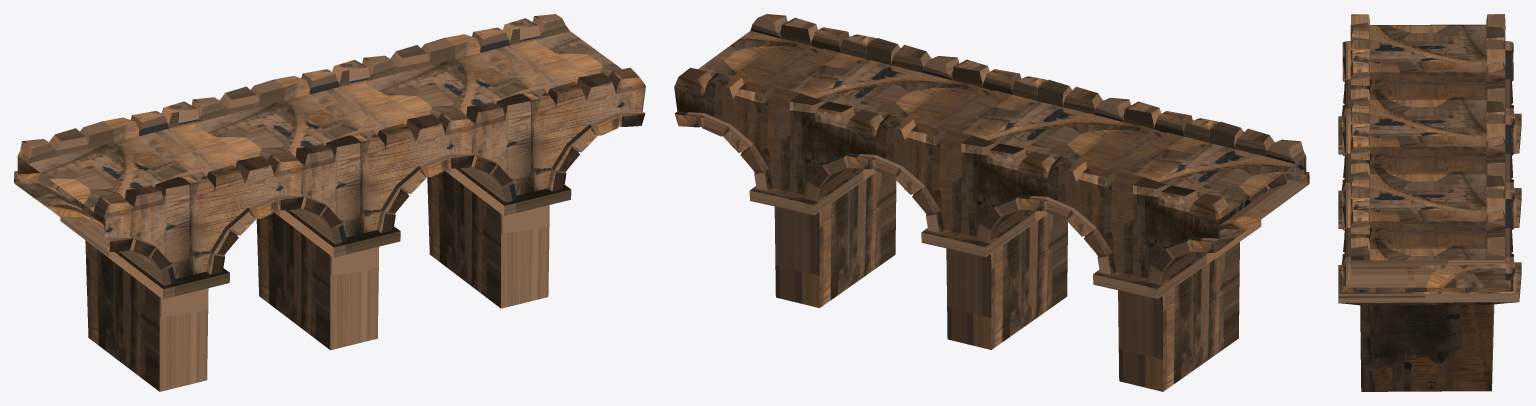
The model's file is StoneBridge.fbx.
3 renders of one model, left to right at view 1: azimuth 30°, elevation 25°; view 2: azimuth 150°, elevation 25°; view 3: azimuth 270°, elevation 25°, orthographic. The views are drawn at different scales.
Visible parts, largest first — view 1: bridge_1_Mat_0; view 2: bridge_1_Mat_0; view 3: bridge_1_Mat_0.
Part boxes in pixels (x1,y1,x2,y2): bridge_1_Mat_0: [14, 14, 645, 391]; bridge_1_Mat_0: [674, 14, 1309, 391]; bridge_1_Mat_0: [1338, 14, 1521, 391].
Size of the model in its own units: 1028 by 376 by 338.
